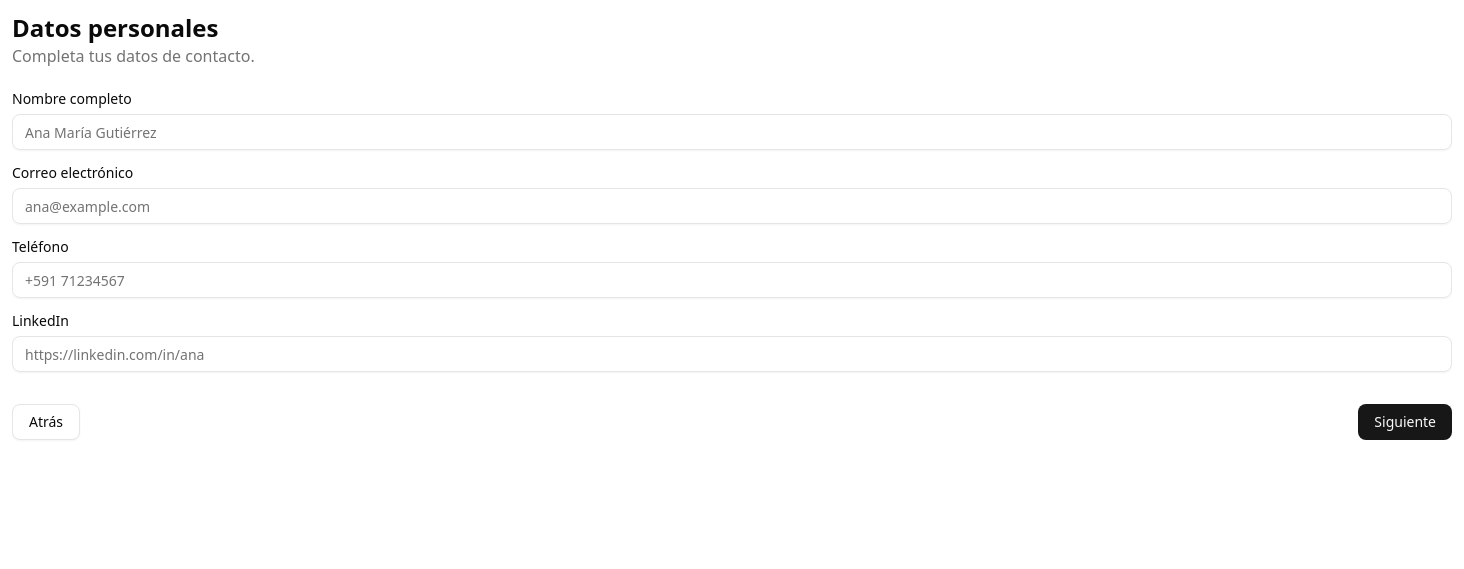
Scenario: PersonalSection › muestra error si el correo o linkedin son inválidos
In the field with placeholder "ana@example.com": (732, 206) [12, 188, 1452, 224], type "correo-invalido"
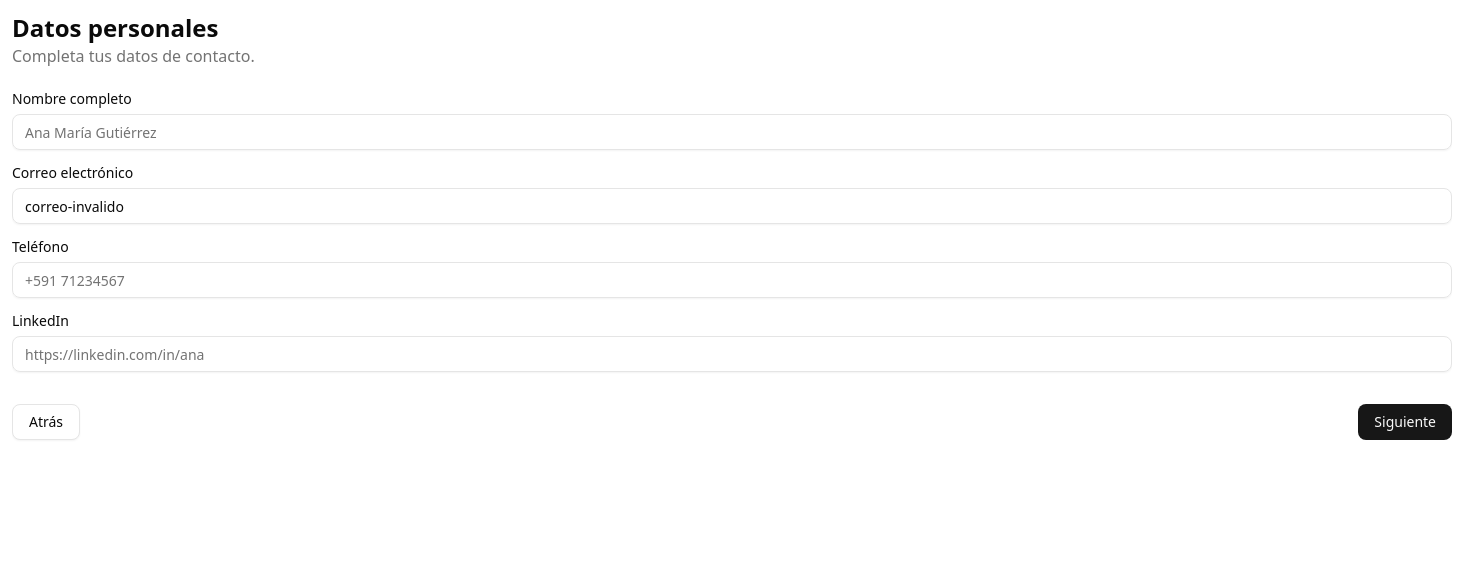
In the field with placeholder "https://linkedin.com/in/ana": (732, 354) [12, 336, 1452, 372], type "linkedin-malo"
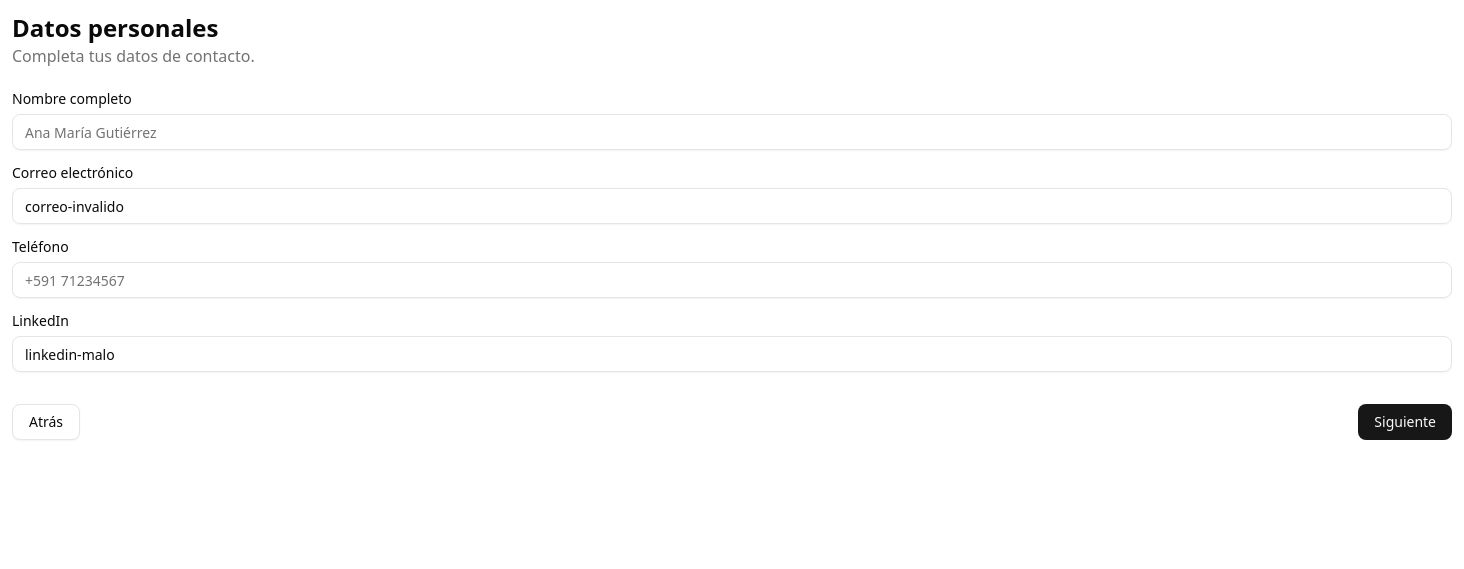
Submit the form from the button "Siguiente", box [1358, 404, 1452, 440]
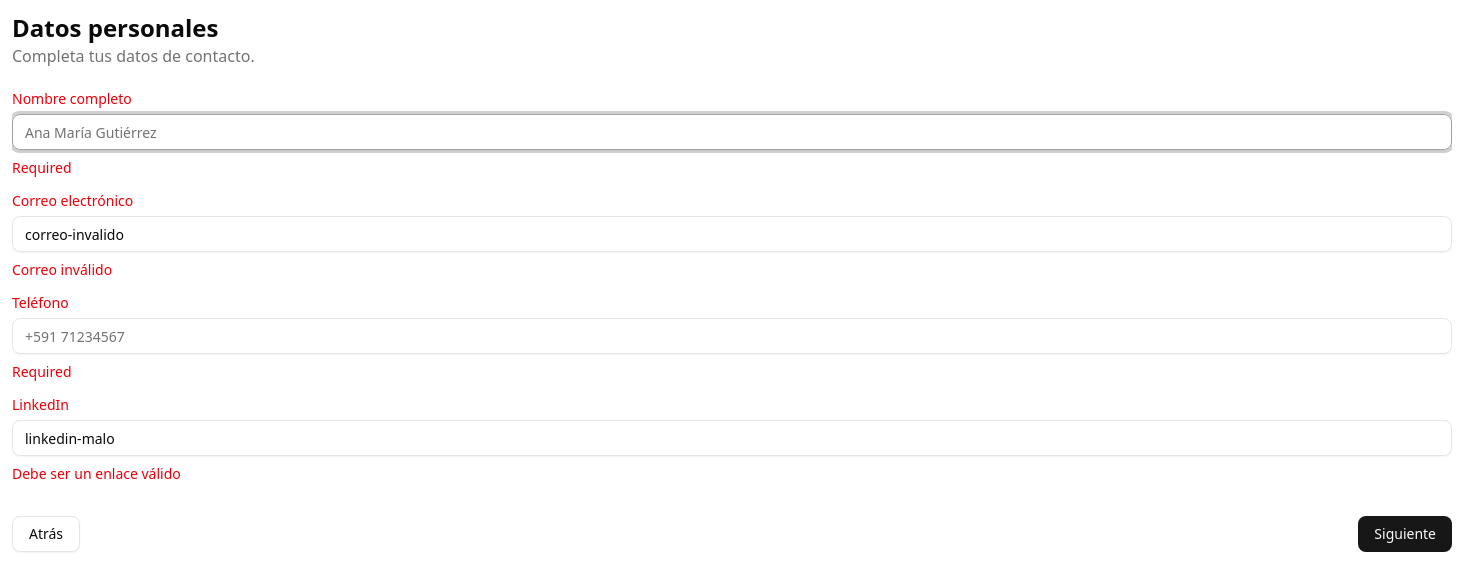
Now the text "Correo inválido" is shown, box [12, 260, 112, 279]
Now the text "Debe ser un enlace válido" is shown, box [12, 464, 181, 483]
